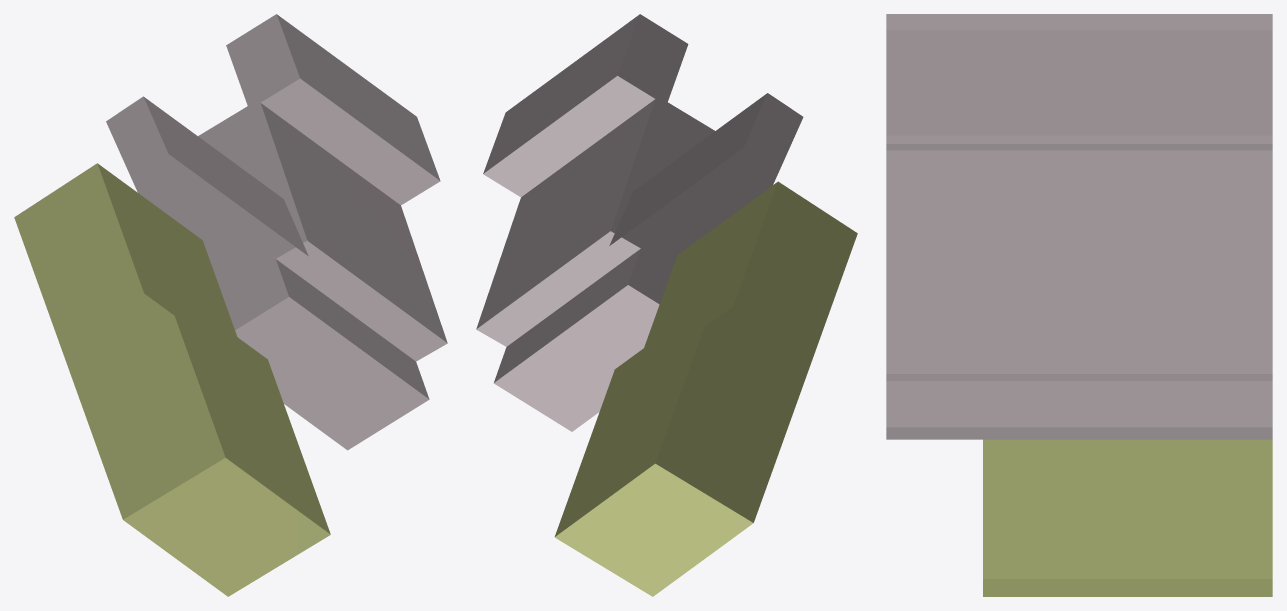
The picture shows the model from 3 angles, left to right: view 1: azimuth 30°, elevation 25°; view 2: azimuth 150°, elevation 25°; view 3: azimuth 270°, elevation 25°; orthographic projection. The views are drawn at different scales.
Visible parts, largest first — view 1: 0_1_0_2_0_2_0_3_0_1; view 2: 0_1_0_2_0_2_0_3_0_1; view 3: 0_1_0_2_0_2_0_3_0_1.
Boxes of the visible parts, x1=… form: 0_1_0_2_0_2_0_3_0_1: x1=14, y1=14, x2=447, y2=596; 0_1_0_2_0_2_0_3_0_1: x1=476, y1=14, x2=857, y2=596; 0_1_0_2_0_2_0_3_0_1: x1=886, y1=14, x2=1272, y2=596.
Bounding box in the file's own units: 14.47 × 22.08 × 12.
